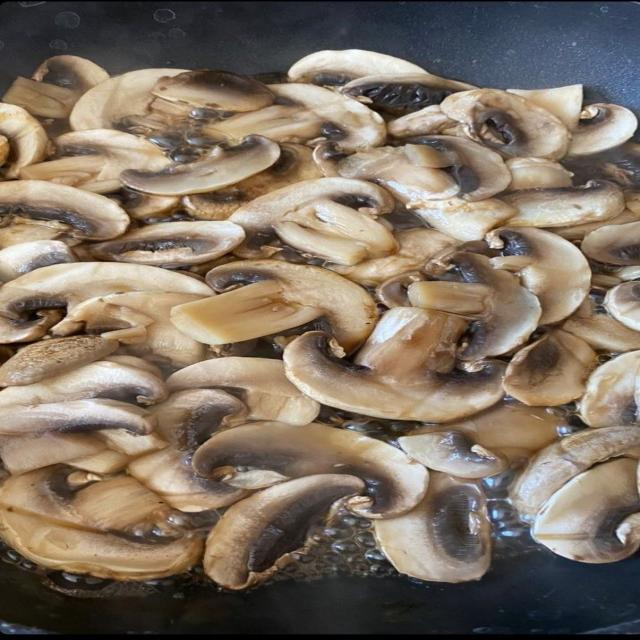champignon mushrooms: (283, 308, 503, 422), (0, 467, 202, 580), (193, 423, 428, 518), (171, 260, 376, 351), (204, 473, 364, 589), (0, 263, 212, 342), (229, 178, 397, 266), (128, 389, 247, 512), (410, 252, 541, 361), (375, 473, 491, 582), (204, 84, 385, 151), (511, 426, 639, 519), (54, 292, 206, 368), (532, 458, 639, 563), (181, 143, 323, 220), (167, 357, 319, 425), (399, 402, 566, 462), (487, 227, 590, 324), (120, 136, 280, 195), (20, 130, 169, 193), (441, 90, 568, 159), (270, 83, 385, 152), (128, 448, 247, 513), (0, 362, 167, 408), (339, 145, 460, 208), (0, 180, 129, 239), (327, 228, 457, 286), (504, 329, 597, 406), (69, 69, 185, 130), (89, 221, 245, 266), (405, 136, 511, 201), (2, 55, 109, 118), (0, 335, 119, 386), (152, 389, 247, 451), (0, 398, 154, 436), (341, 73, 477, 116), (501, 181, 624, 227), (399, 431, 508, 478), (289, 49, 426, 86), (152, 70, 274, 111), (0, 431, 112, 475), (415, 197, 517, 241), (580, 351, 639, 427), (562, 299, 639, 353), (0, 103, 49, 179), (563, 142, 639, 189), (568, 104, 637, 155), (508, 85, 582, 131), (0, 240, 76, 282), (549, 209, 639, 240), (581, 222, 639, 265), (387, 105, 461, 138), (506, 158, 572, 190), (118, 189, 179, 223), (376, 270, 425, 308), (605, 281, 639, 331), (67, 449, 129, 474)
